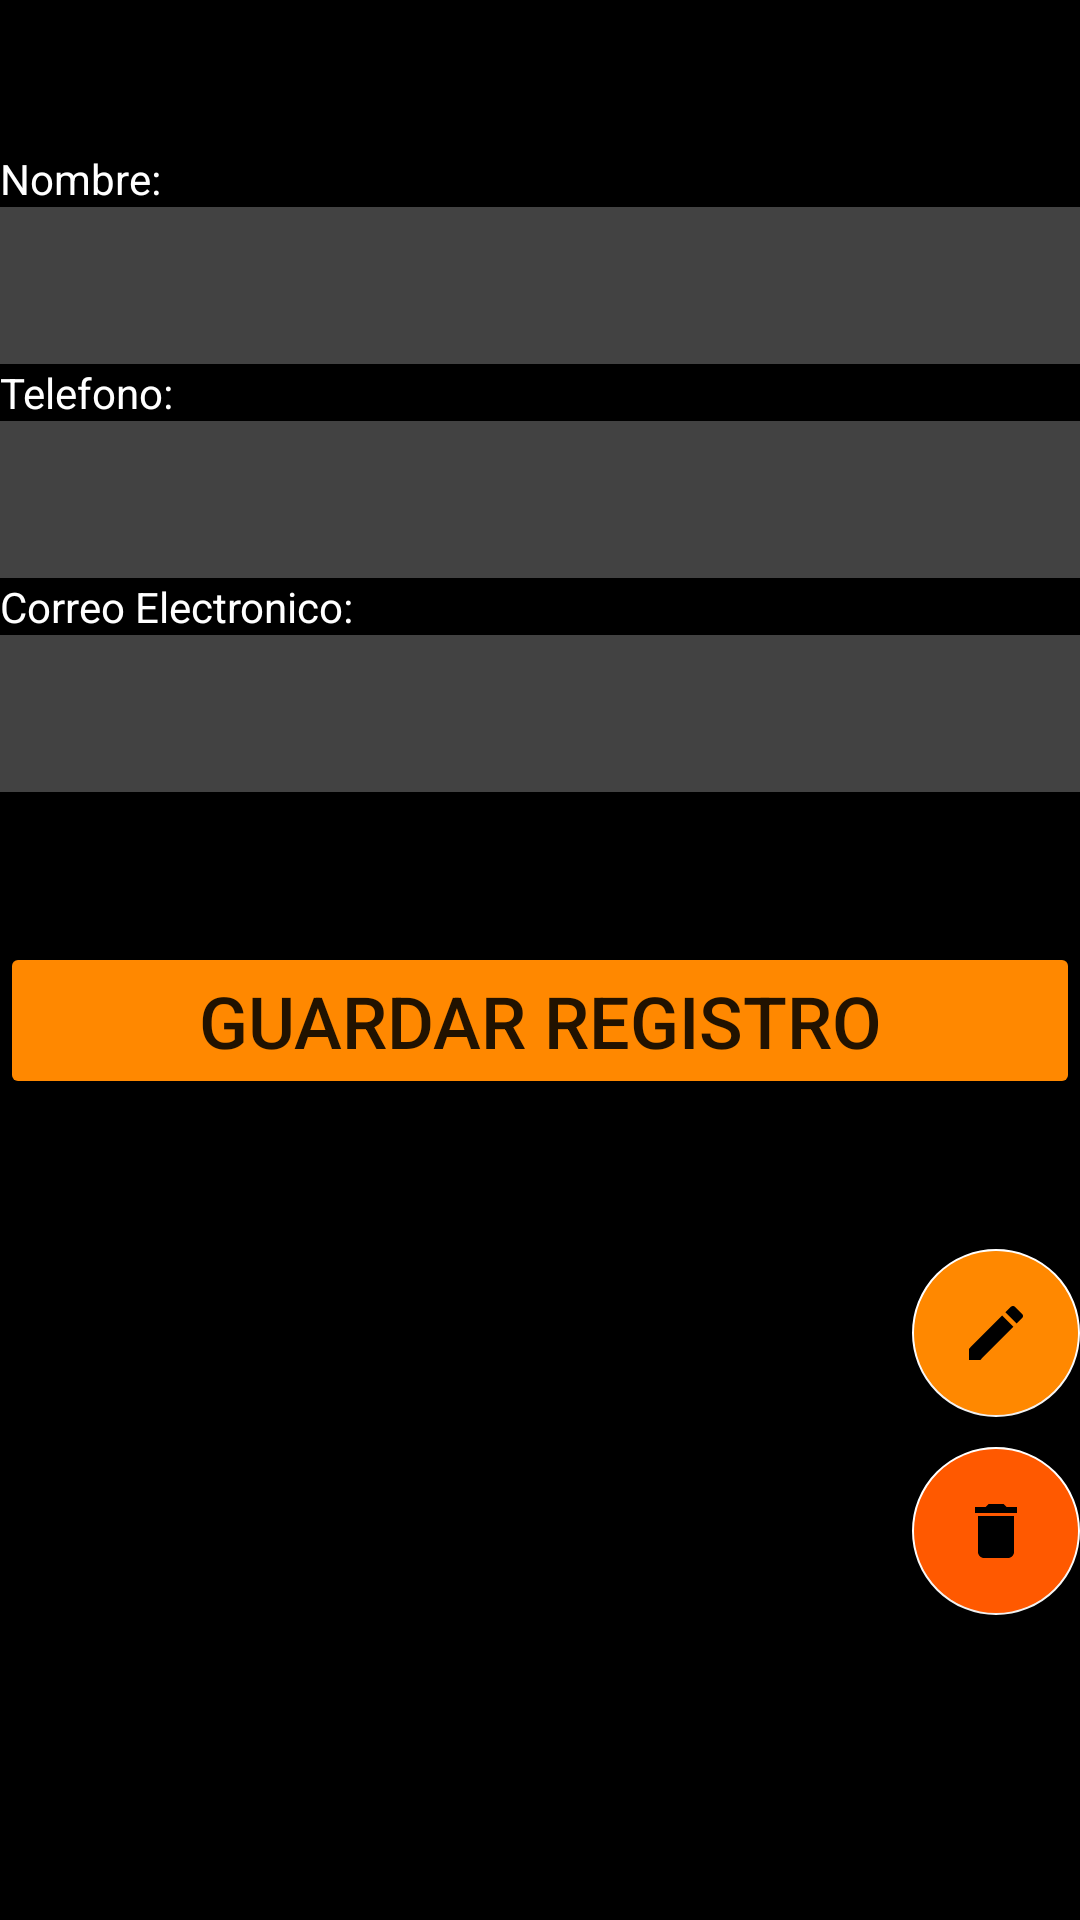

Screen size 1080w x 1920h. Icon name, then its center in pixels as point (x, y):
delete: point (996, 1531)
mode edit: point (996, 1333)
